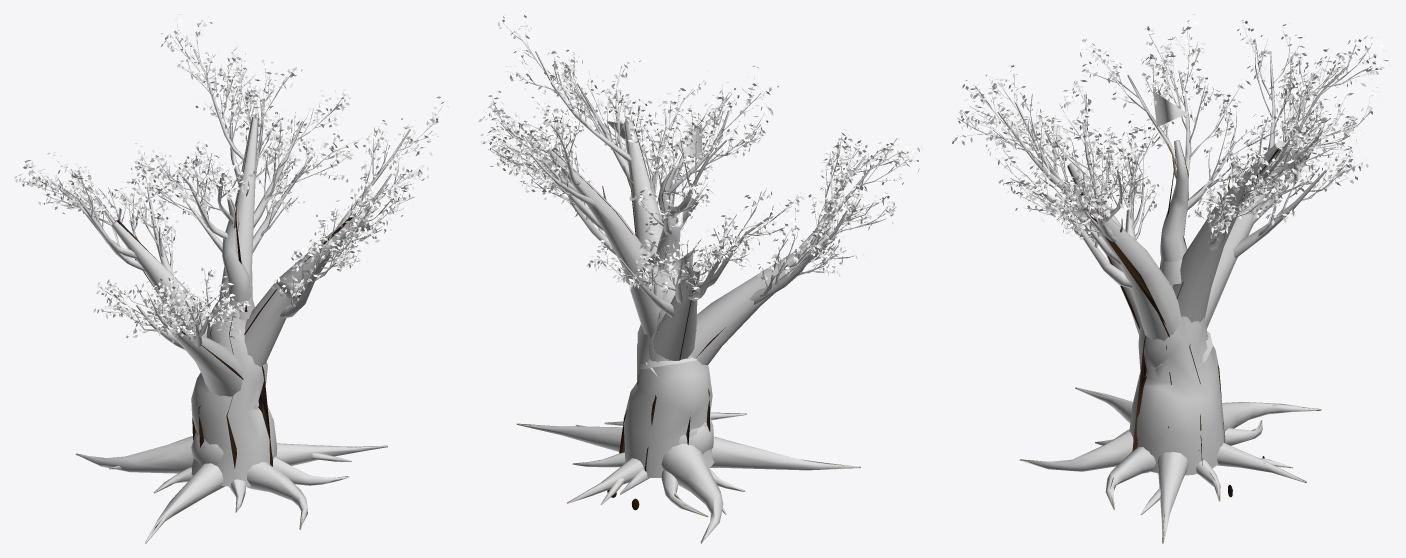
The model's file is ancient_tree_lod2.glb.
3 renders of one model, left to right at view 1: azimuth 30°, elevation 25°; view 2: azimuth 150°, elevation 25°; view 3: azimuth 270°, elevation 25°, orthographic. The views are drawn at different scales.
Visible parts, largest first — view 1: AncientTreeWood_LOD2, AncientLeaves_LOD2, FineBranches_LOD2, DirectedBarkGrooves_LOD2; view 2: AncientTreeWood_LOD2, AncientLeaves_LOD2, FineBranches_LOD2, DirectedBarkGrooves_LOD2; view 3: AncientTreeWood_LOD2, AncientLeaves_LOD2, FineBranches_LOD2, DirectedBarkGrooves_LOD2.
Boxes of the visible parts, x1,y1,x2,y2 form: AncientTreeWood_LOD2: (27, 34, 438, 543); AncientLeaves_LOD2: (14, 14, 449, 343); FineBranches_LOD2: (21, 23, 443, 334); DirectedBarkGrooves_LOD2: (117, 117, 352, 468); AncientTreeWood_LOD2: (490, 32, 908, 543); AncientLeaves_LOD2: (478, 14, 922, 298); FineBranches_LOD2: (483, 22, 916, 292); DirectedBarkGrooves_LOD2: (546, 120, 805, 471); AncientTreeWood_LOD2: (957, 34, 1370, 543); AncientLeaves_LOD2: (952, 14, 1390, 242); FineBranches_LOD2: (957, 21, 1376, 246); DirectedBarkGrooves_LOD2: (1067, 141, 1280, 465).
Bounding box in the file's own units: 20.75 × 22.95 × 19.77.
